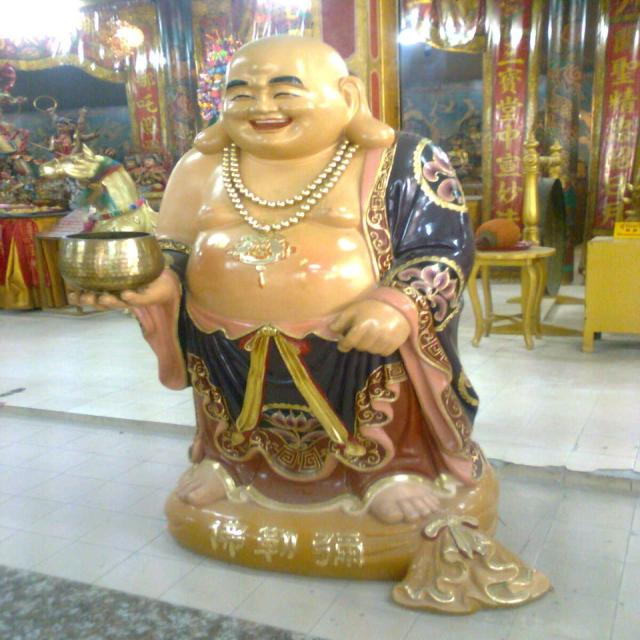Smiling Buddha: (121, 30, 489, 506)
